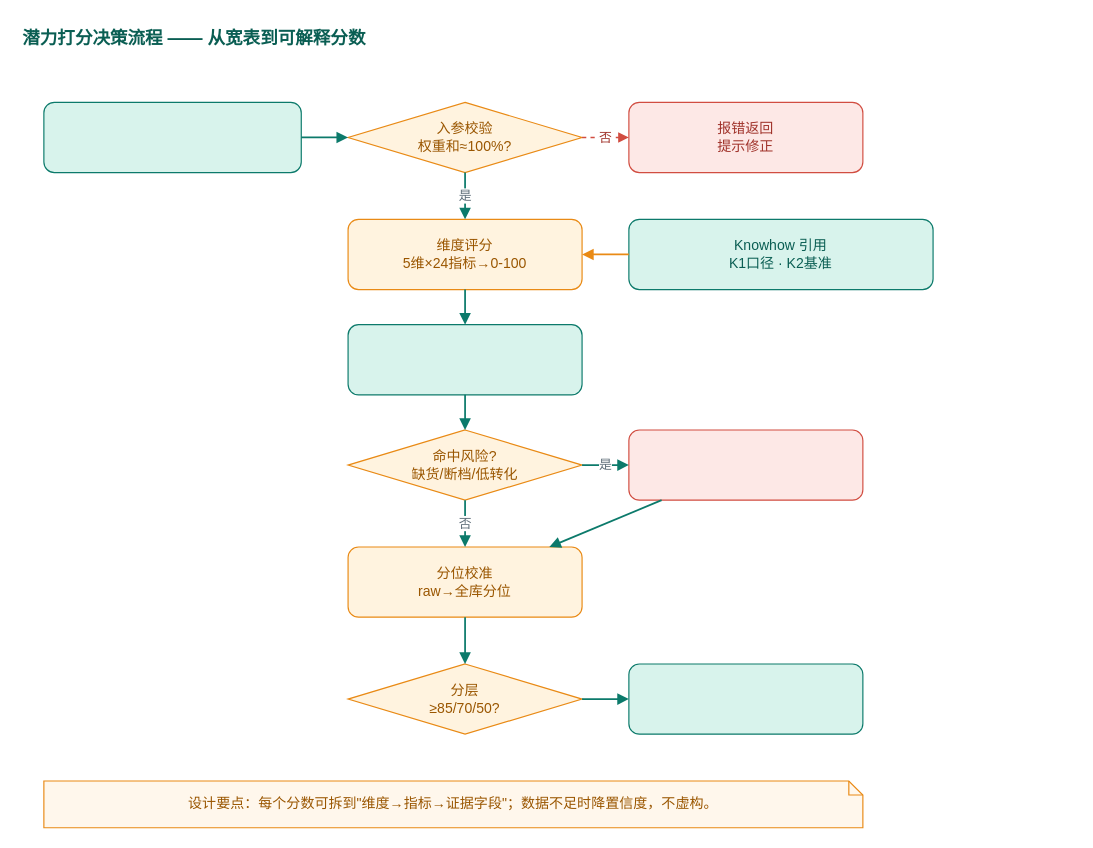
This 1093x848 diagram has some shape labels left out. Each missing label, with the box of its shape:
企业-门店宽表 (ads_rolling_metrics): (43, 101, 301, 173)
加权合成 raw=Σ(维度×权重): (347, 324, 582, 395)
输出 score JSON final+五维+证据链+置信度: (628, 663, 863, 734)
风险扣分 -8/-12/-5/-4/-1: (628, 429, 863, 500)
